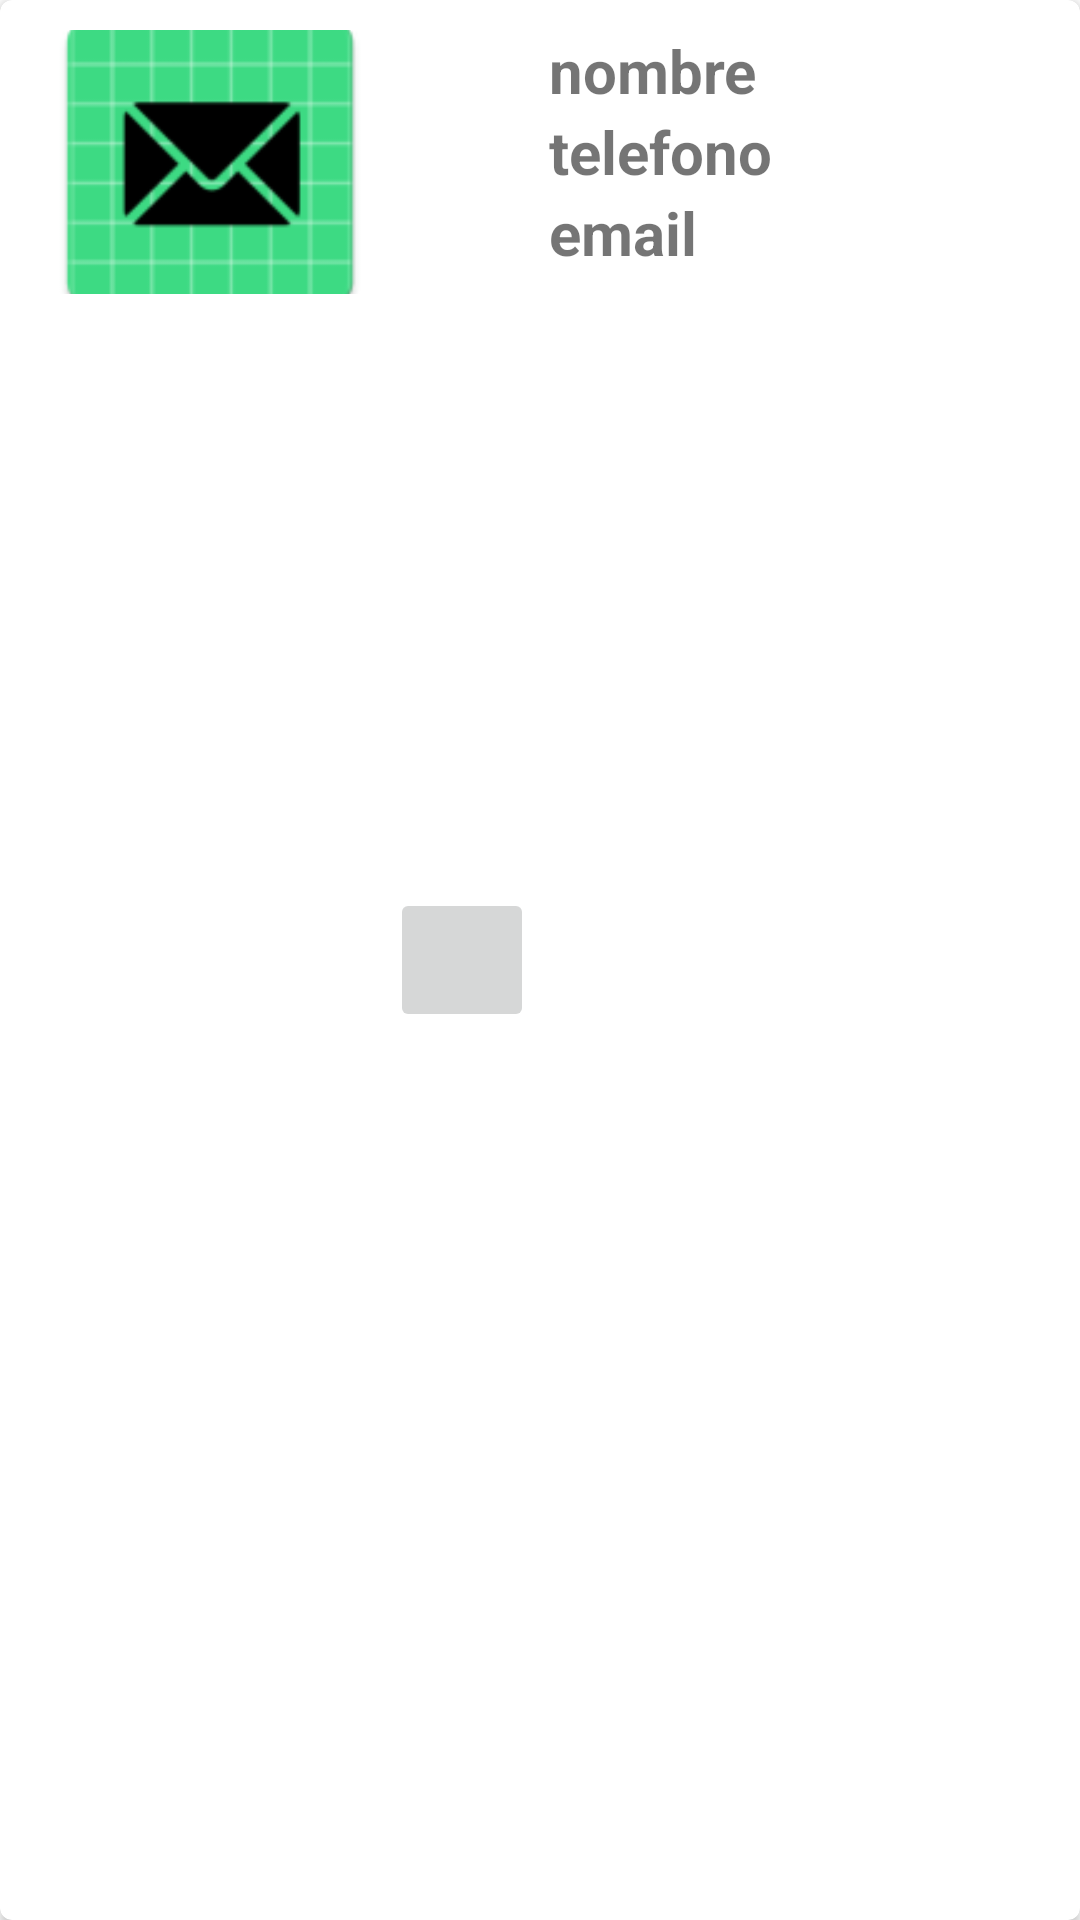

Point at icon controls on the screen. Image size 1080 x 1920, points as (x=x, y=y).
email: (x=210, y=162)
